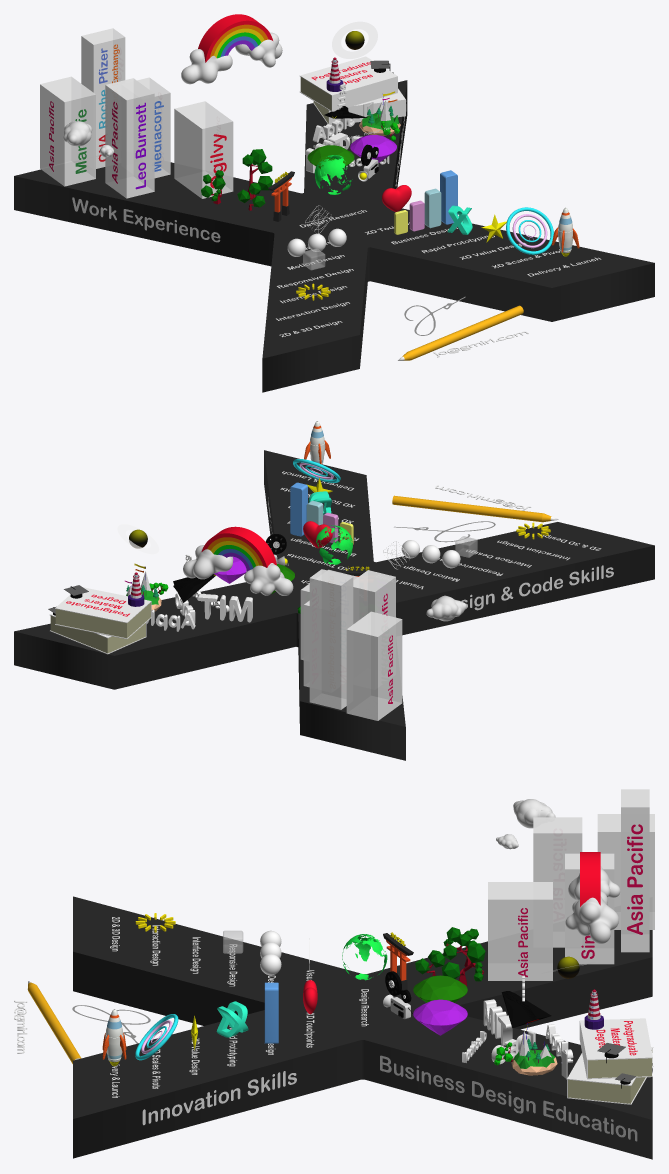
3 renders of one model, top to bottom at view 1: azimuth 30°, elevation 25°; view 2: azimuth 150°, elevation 25°; view 3: azimuth 270°, elevation 25°, orthographic. The views are drawn at different scales.
Parts seen in each view (by area): view 1: xx006, xx014, xx026, xx031, Mball.010, xx025, xx048, xx092, xx027, xx.015, xx, xx002_1_1 (+9 smaller); view 2: xx006, xx026, xx025, Mball.010, xx048, xx014, xx.015, xx053, xx092, xx002_2, xx102, xx029 (+7 smaller); view 3: xx006, xx031, xx025, xx014, Mball.010, xx048, xx027, xx092, xx026, xx002_2, xx037, xx053 (+11 smaller).
Boxes of the visible parts, x1,y1,x2,y2 form: xx006: (14, 80, 654, 392); xx014: (105, 78, 154, 198); xx026: (40, 76, 95, 186); xx031: (174, 101, 233, 198); Mball.010: (181, 14, 282, 84); xx025: (81, 28, 125, 168); xx048: (300, 56, 397, 111); xx092: (276, 210, 601, 337); xx027: (137, 77, 170, 178); xx.015: (402, 305, 523, 360); xx: (332, 21, 377, 58); xx002_1_1: (313, 88, 405, 125); xx006: (14, 450, 654, 760); xx026: (346, 611, 402, 720); xx025: (309, 569, 353, 709); Mball.010: (183, 526, 293, 595); xx048: (55, 587, 151, 639); xx014: (353, 570, 395, 623); xx.015: (392, 495, 551, 522); xx053: (55, 602, 150, 638); xx092: (280, 471, 601, 589); xx002_2: (50, 616, 145, 653); xx102: (197, 593, 252, 622); xx029: (290, 482, 307, 536); xx006: (73, 896, 652, 1159); xx031: (488, 882, 552, 980); xx025: (621, 789, 649, 952); xx014: (533, 817, 582, 947); Mball.010: (565, 852, 620, 943); xx048: (579, 1018, 652, 1079); xx027: (565, 853, 614, 964); xx092: (110, 917, 368, 1097); xx026: (597, 814, 654, 929); xx002_2: (568, 1050, 652, 1103); xx037: (413, 999, 467, 1035); xx053: (588, 1058, 651, 1078).
Size of what is drawn, in the model's own units: 1.58 by 0.6247 by 1.91.
Materials: 132 (1 with a texture image).
